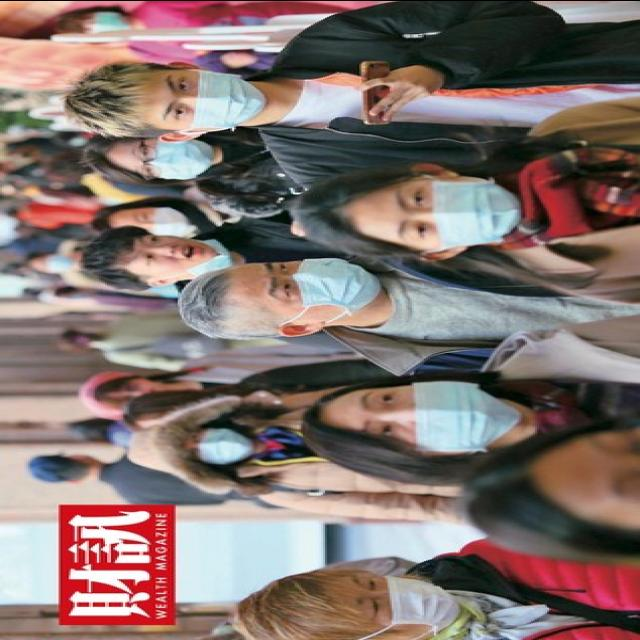mask_weared_incorrect: (131, 236, 222, 278)
with_mask: (351, 380, 523, 454), (385, 176, 521, 250), (254, 257, 384, 318), (156, 70, 266, 132), (342, 577, 461, 632), (121, 139, 210, 179), (180, 426, 248, 466), (126, 206, 196, 237), (73, 10, 133, 34)
without_mask: (114, 376, 162, 406)
